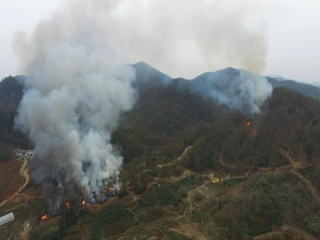smoke: (17, 6, 132, 202), (194, 9, 274, 118)
